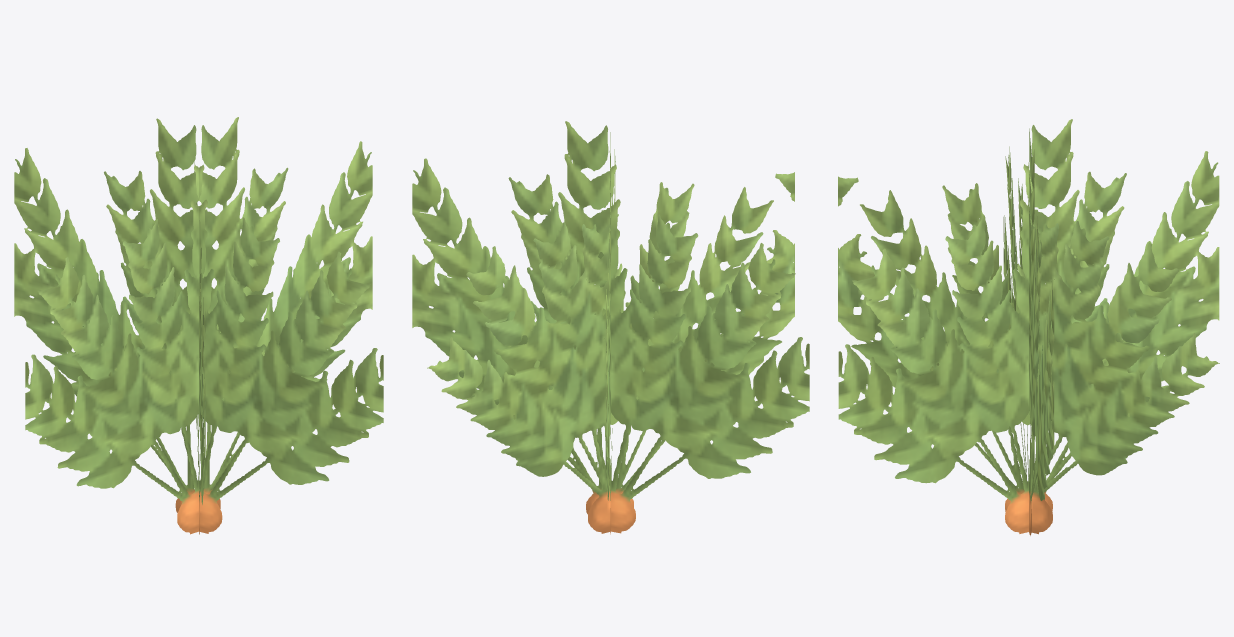
The model's file is crop_carrot_2.glb.
3 views of the same model, side by side, from view 1: azimuth 30°, elevation 25°; view 2: azimuth 150°, elevation 25°; view 3: azimuth 270°, elevation 25° (orthographic).
Visible parts, largest first — view 1: crop_carrot_2; view 2: crop_carrot_2; view 3: crop_carrot_2.
Boxes of the visible parts, bbox=[...] form: crop_carrot_2: bbox=[14, 117, 383, 534]; crop_carrot_2: bbox=[412, 121, 809, 534]; crop_carrot_2: bbox=[838, 119, 1219, 535].
Size of the model in its own units: 0.4569 by 0.5 by 0.4052.
1 material, 1 textured.
